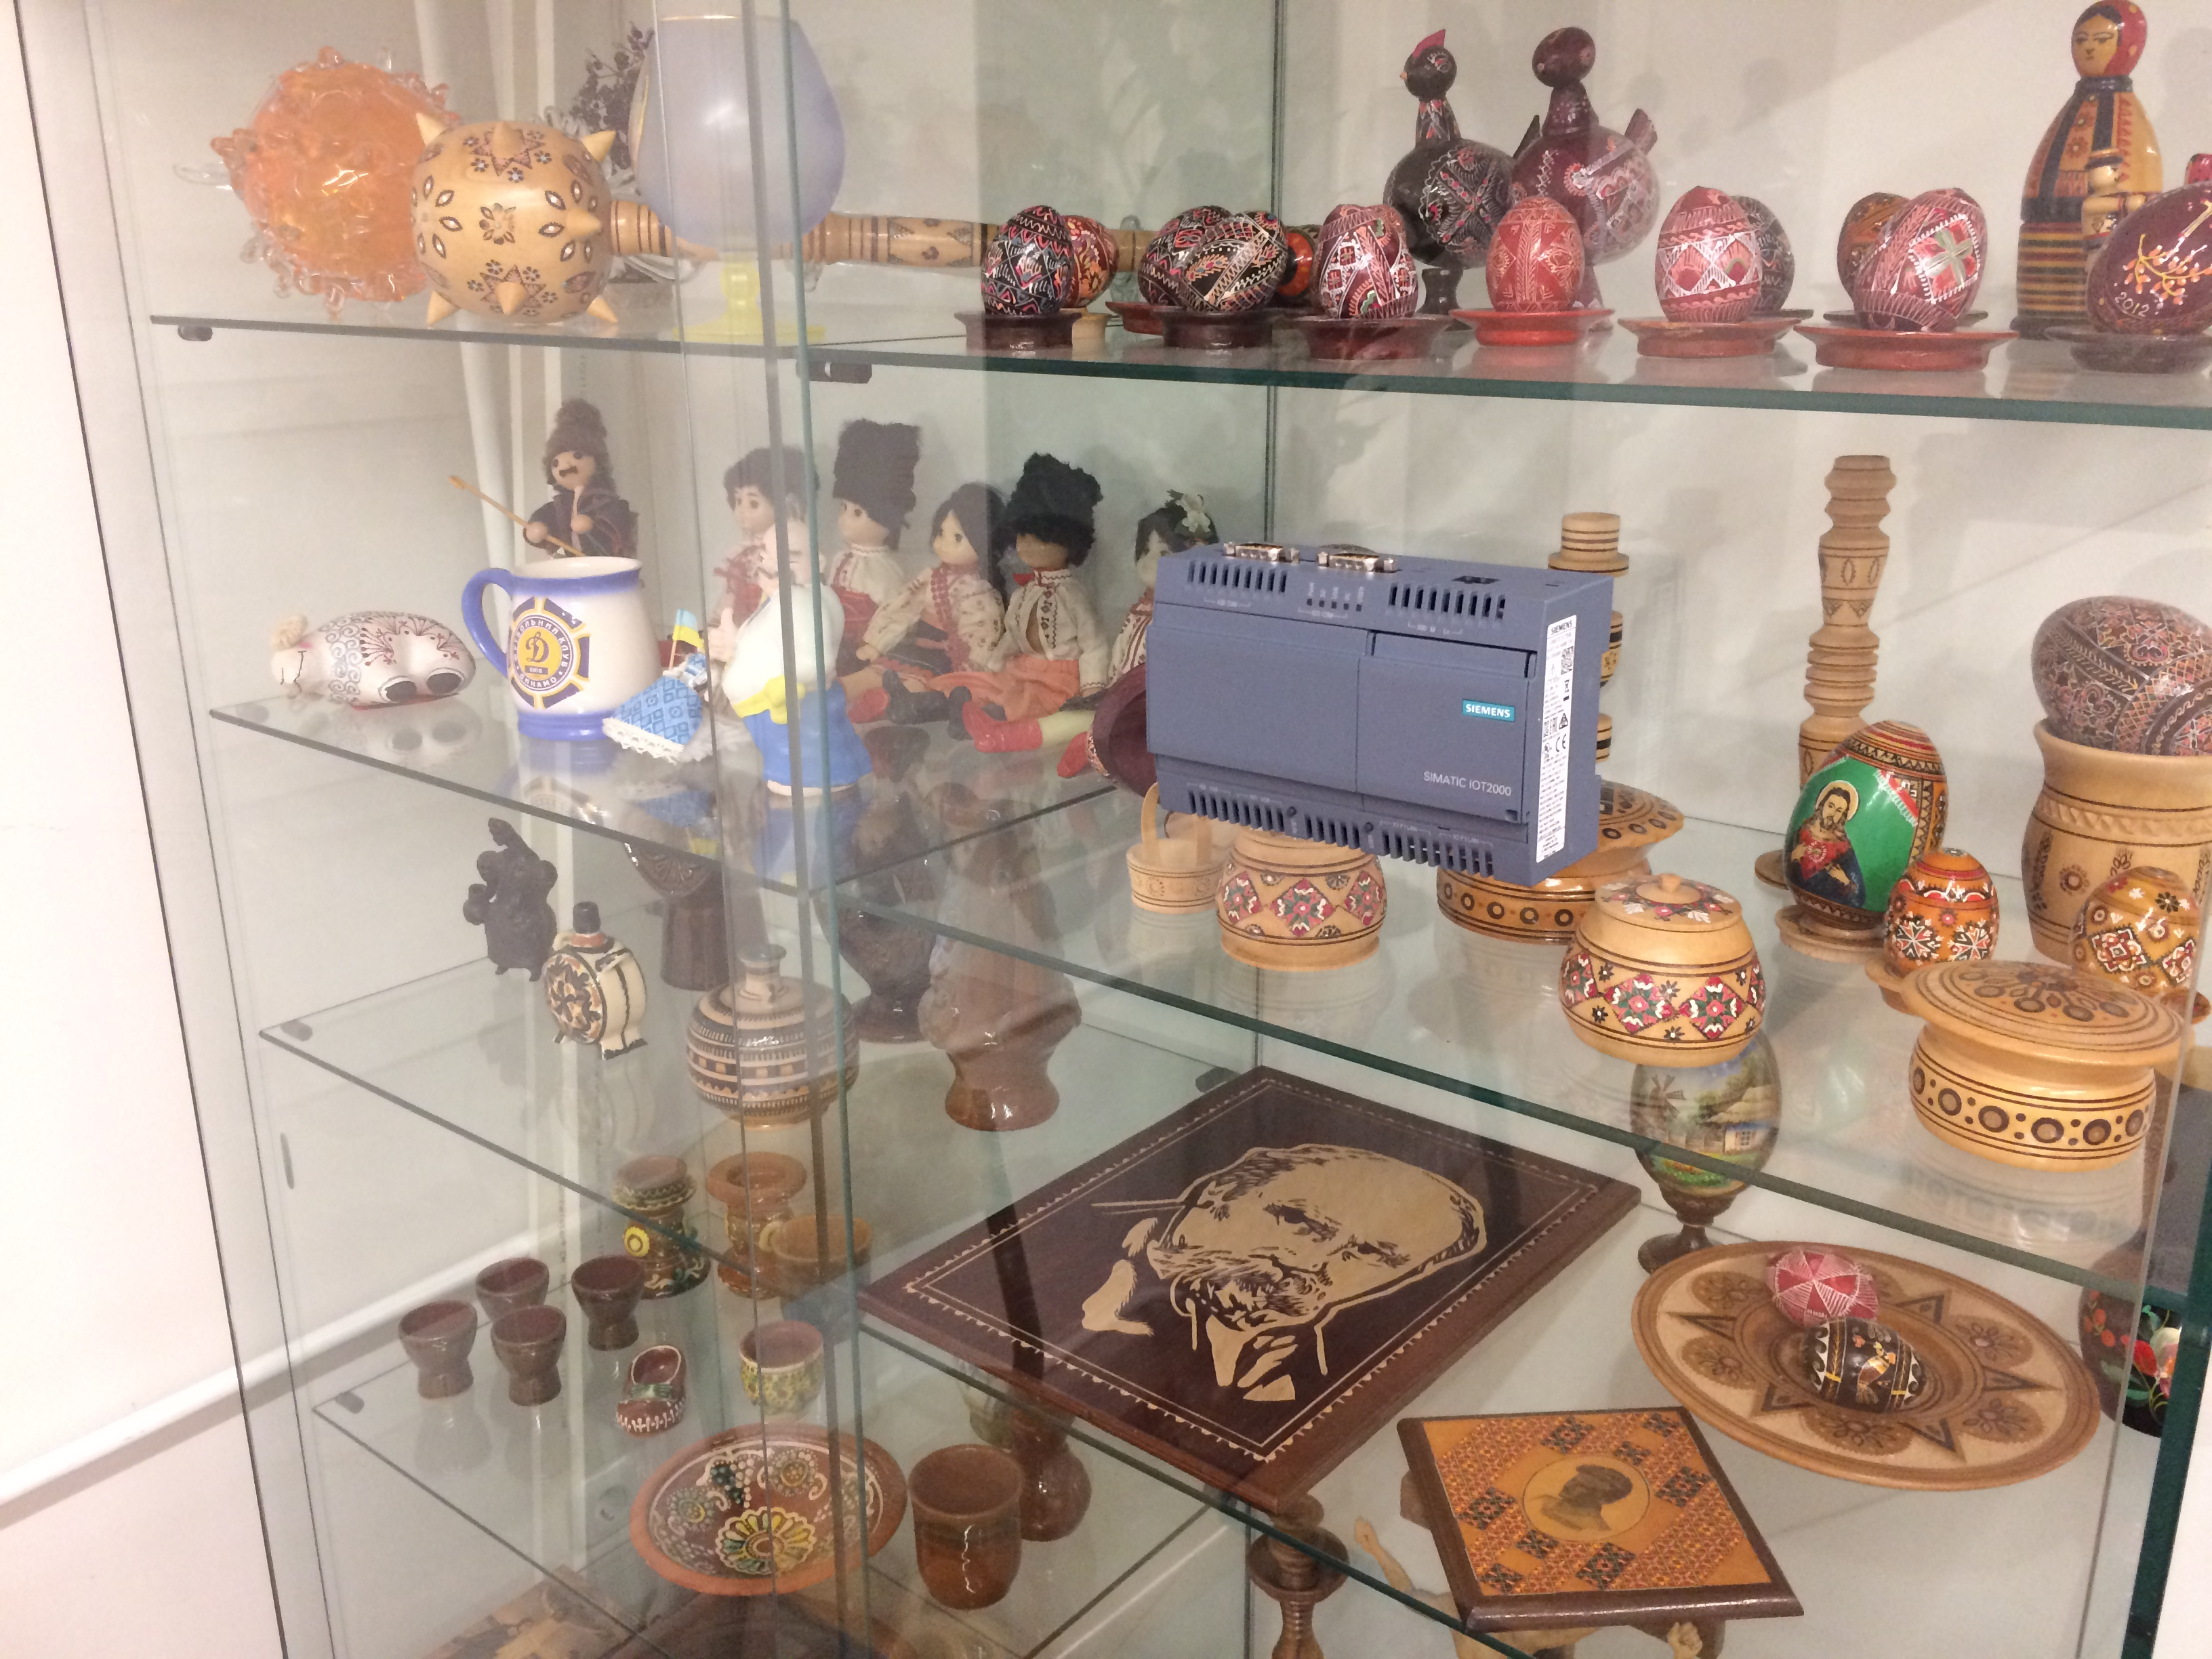iot2000: (1143, 537, 1616, 892)
